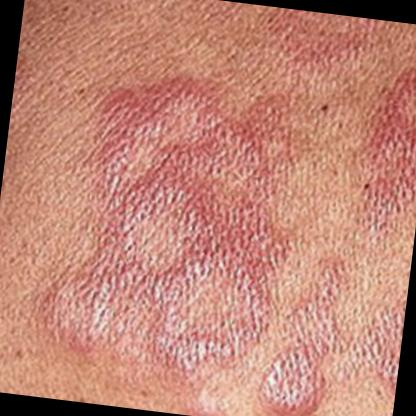Leprosy: (30, 70, 298, 386), (258, 256, 409, 416), (342, 52, 416, 251)
